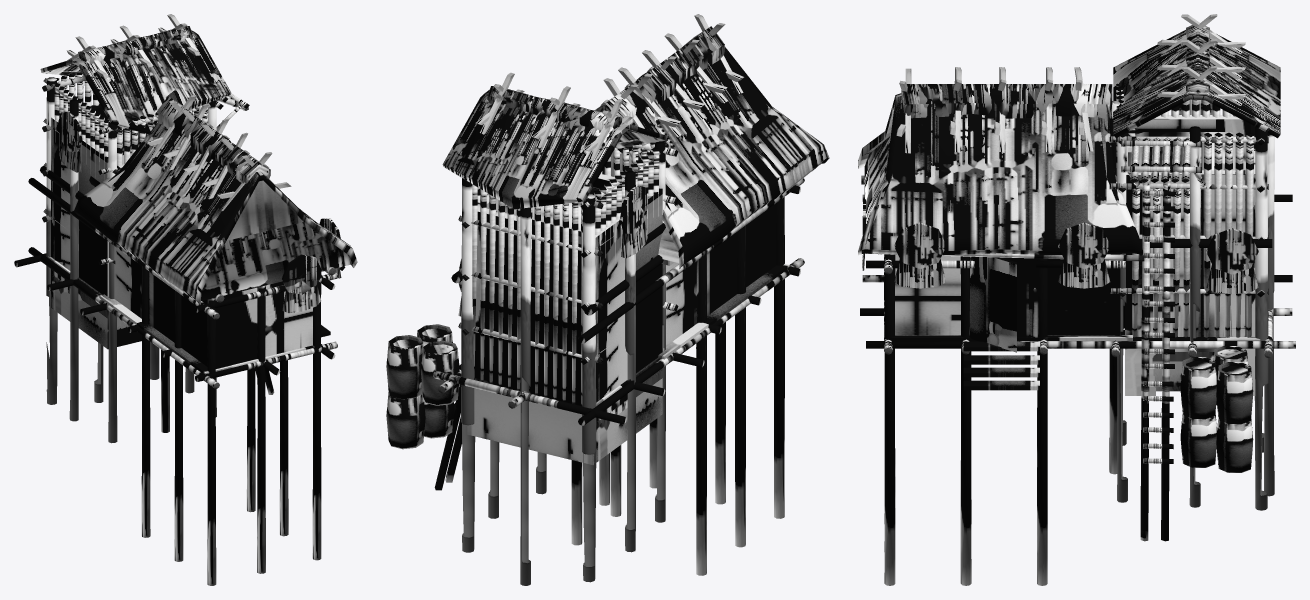
The model's file is framstead_mex.dae.
3 renders of one model, left to right at view 1: azimuth 30°, elevation 25°; view 2: azimuth 150°, elevation 25°; view 3: azimuth 270°, elevation 25°, orthographic. The views are drawn at different scales.
Visible parts, largest first — view 1: Framstead; view 2: Framstead; view 3: Framstead.
Boxes of the visible parts, x1,y1,x2,y2 form: Framstead: (14,14,357,585); Framstead: (386,14,829,585); Framstead: (858,14,1295,585).
Size of the model in its own units: 8.27 by 12.72 by 16.44.
